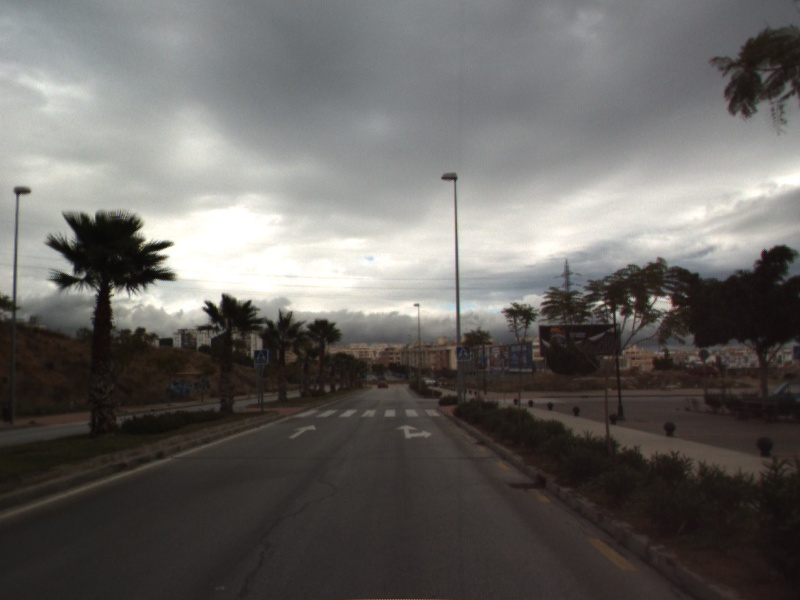STRAIGHT: (287, 422, 318, 440)
STRAIGHT_RIGHT: (394, 422, 434, 440)
